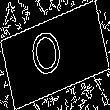O_S: (35, 24, 75, 86)
